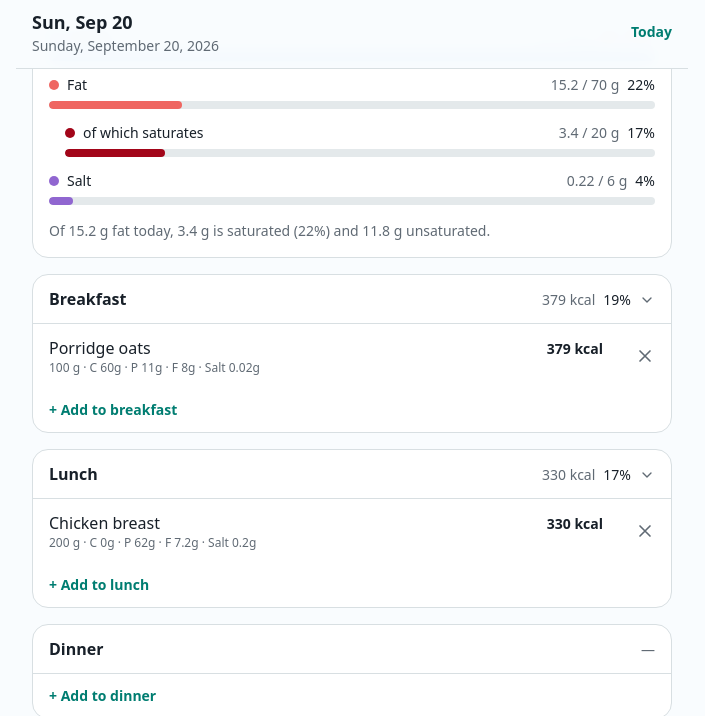
Test: TodayPage › arms only the row that was tapped
(page scrolled)
Step 1. Click the button named "Remove Porridge oats" → click(645, 356), box top-left (627, 338), bottom-right (663, 374)
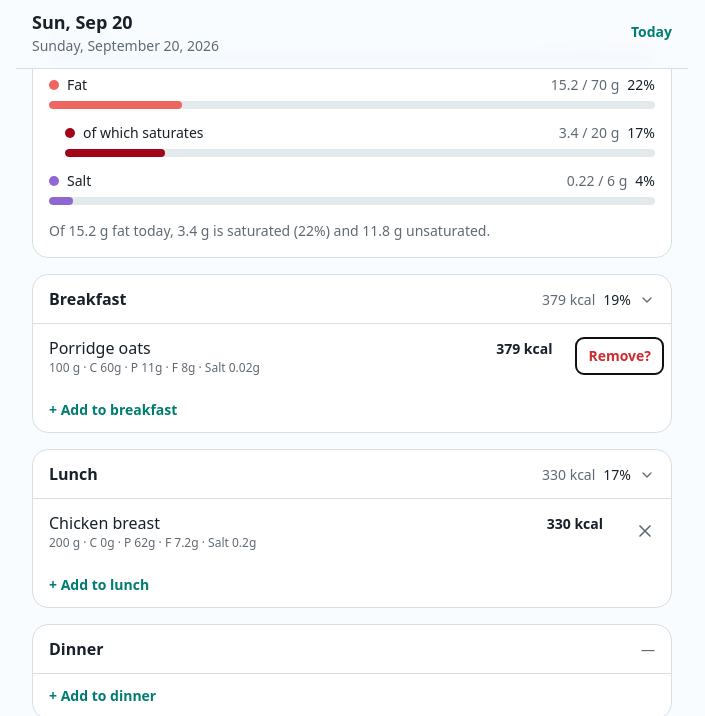
Step 2. Click the button named "Remove Chicken breast" → click(645, 531), box top-left (627, 513), bottom-right (663, 549)
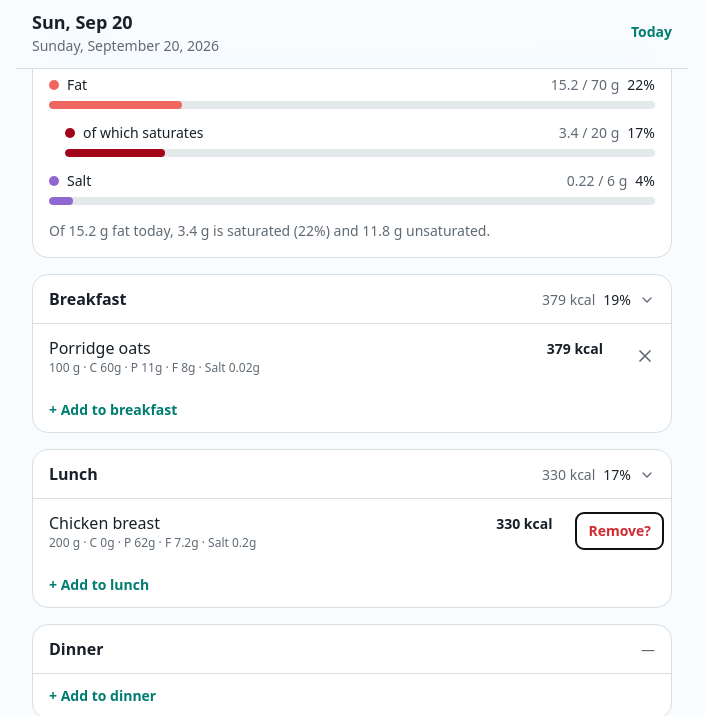
Result: the button with aria-label "Confirm removing Chicken breast" is shown at top-left (576, 513), bottom-right (663, 549)
